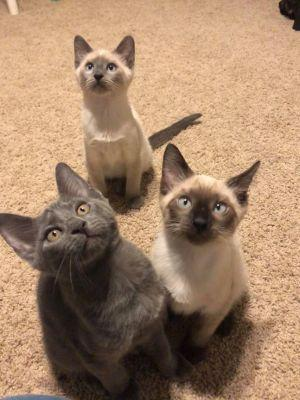rblue: (2, 151, 134, 299)
